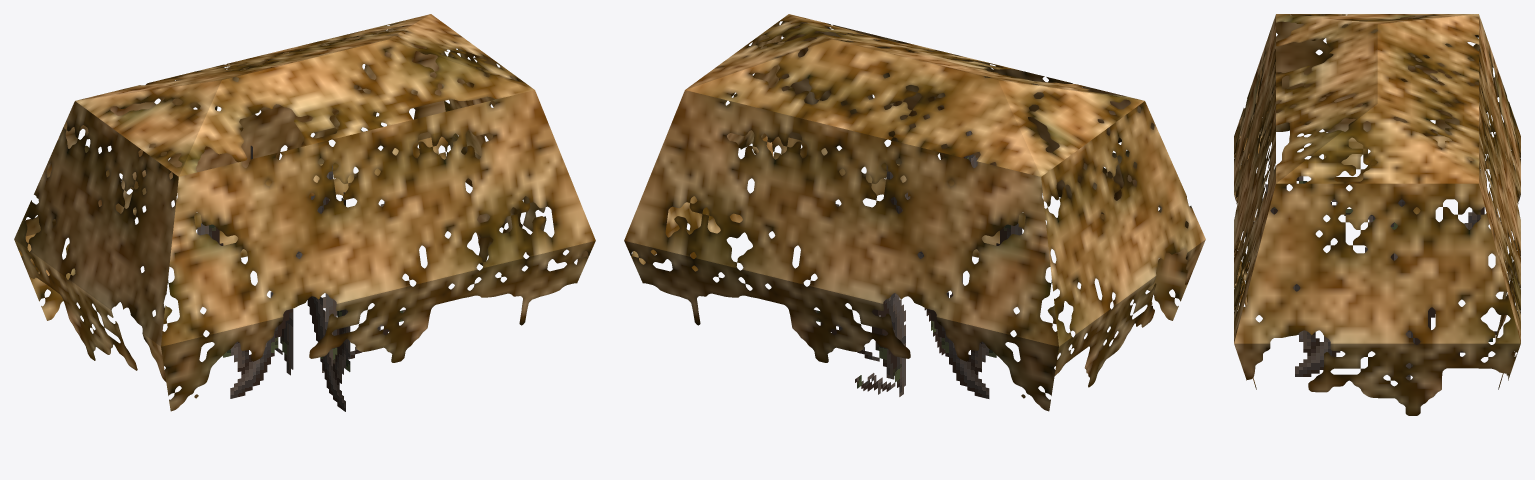
Rendered from bush_long_half_single_roots_autumn.fbx.
The picture shows the model from 3 angles, left to right: view 1: azimuth 30°, elevation 25°; view 2: azimuth 150°, elevation 25°; view 3: azimuth 270°, elevation 25°; orthographic projection. The views are drawn at different scales.
Parts seen in each view (by area): view 1: bush_long_half_single_roots_autumn; view 2: bush_long_half_single_roots_autumn; view 3: bush_long_half_single_roots_autumn.
Part boxes in pixels (x1,y1,x2,y2): bush_long_half_single_roots_autumn: (14, 14, 595, 411); bush_long_half_single_roots_autumn: (624, 14, 1205, 411); bush_long_half_single_roots_autumn: (1234, 14, 1520, 415).
Bounding box in the file's own units: 123 × 87.65 × 71.91.
2 materials, 2 textured.
